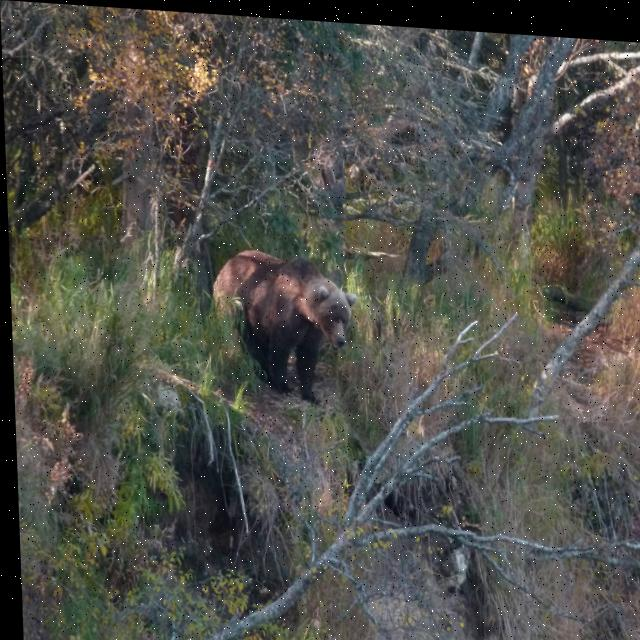bear face: (202, 242, 355, 408)
